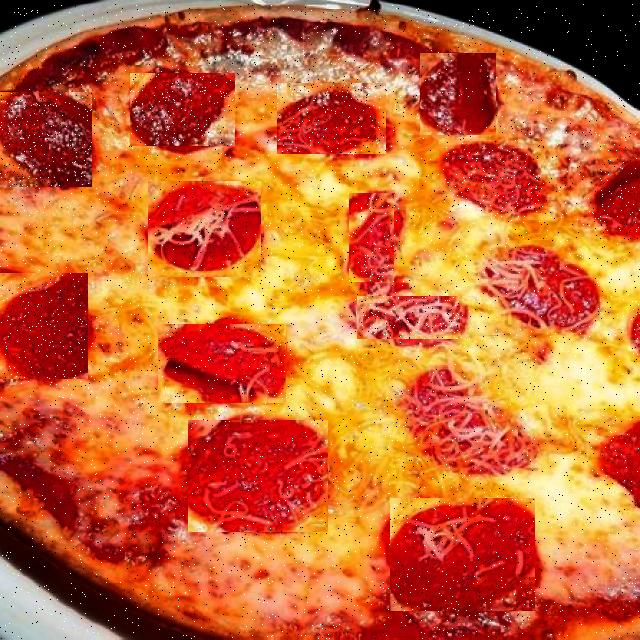Pepperoni: (390, 499, 535, 611), (188, 421, 328, 532), (422, 368, 536, 468), (148, 182, 261, 277), (158, 325, 286, 403), (488, 242, 593, 333), (0, 274, 88, 379), (0, 93, 92, 187), (277, 84, 386, 154), (130, 74, 235, 146), (446, 147, 541, 213), (421, 54, 496, 135), (357, 297, 460, 339), (350, 195, 396, 282), (605, 414, 640, 526), (598, 155, 640, 235), (630, 299, 640, 360)
Pizza: (0, 4, 640, 639)
